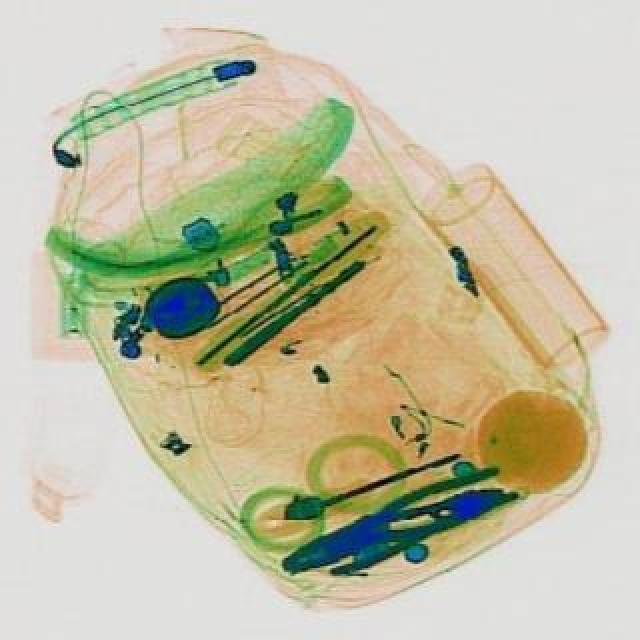wrench: (268, 456, 518, 588), (310, 466, 510, 580)
